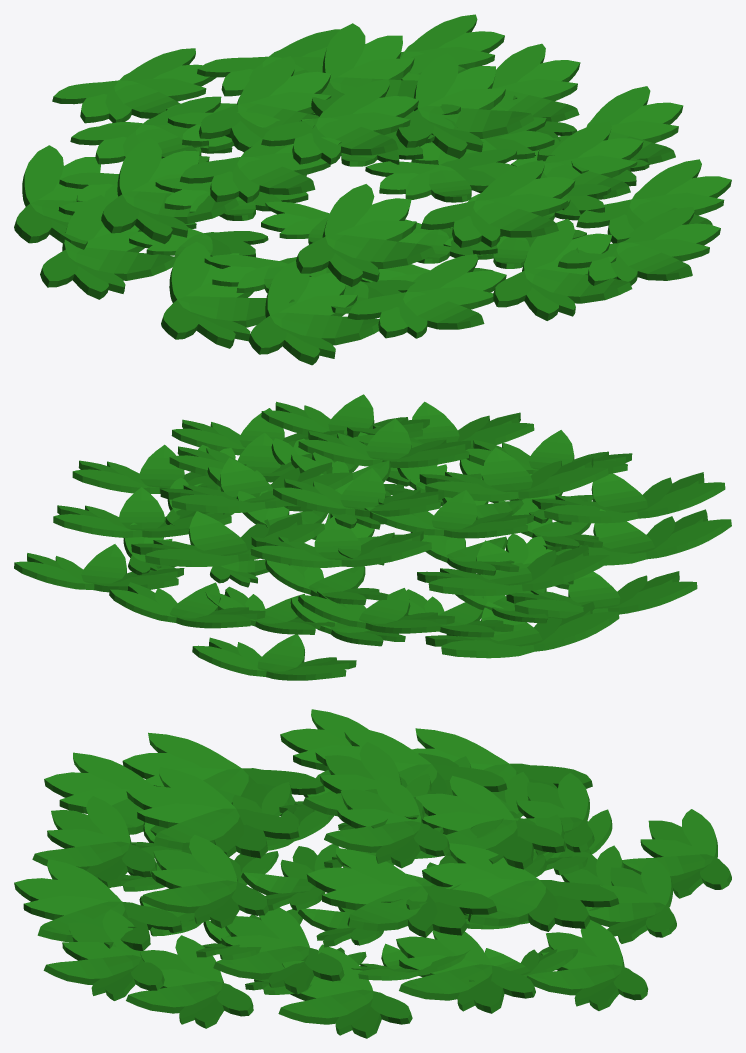
Rendered from PilaHoja3.fbx.
The picture shows the model from 3 angles, top to bottom: view 1: azimuth 30°, elevation 25°; view 2: azimuth 150°, elevation 25°; view 3: azimuth 270°, elevation 25°; orthographic projection. The views are drawn at different scales.
Parts seen in each view (by area): view 1: PilaHoja3; view 2: PilaHoja3; view 3: PilaHoja3.
Part boxes in pixels (<box>): PilaHoja3: <box>14,14,731,365</box>; PilaHoja3: <box>14,394,731,680</box>; PilaHoja3: <box>14,709,731,1038</box>.
Size of the model in its own units: 60.5 by 7.45 by 57.77.
